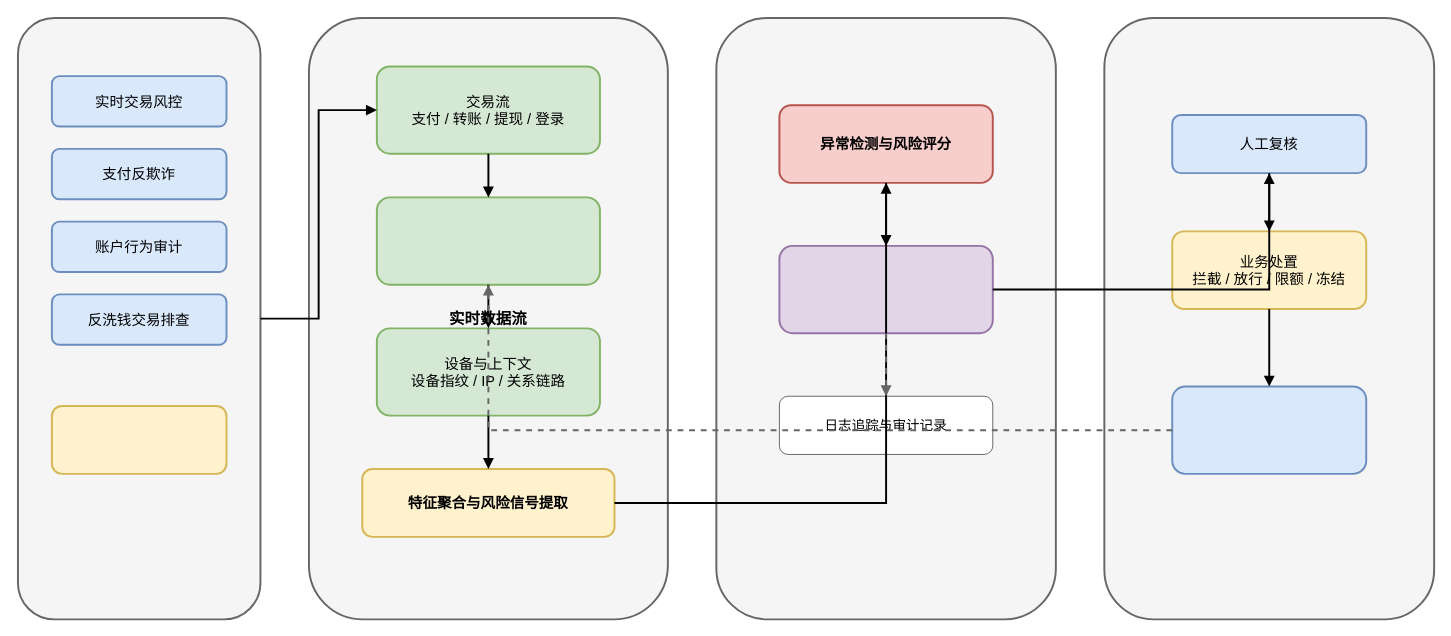
The diagram is 1451 pixels wide and 636 high, and some of its shapes have lost their labels. Each missing label, with the box of its shape:
人工复核与反馈: (1103, 16, 1435, 620)
反馈闭环 规则更新 / 模型迭代 / 名单维护: (1171, 385, 1367, 474)
异常告警 高风险样本 / Top-k 审查名单: (778, 244, 993, 334)
异常检测与告警: (715, 16, 1056, 620)
账户行为 频次 / 金额 / 时段 / 地域: (375, 196, 600, 285)
高并发、低时延、持续到达: (50, 404, 227, 474)
